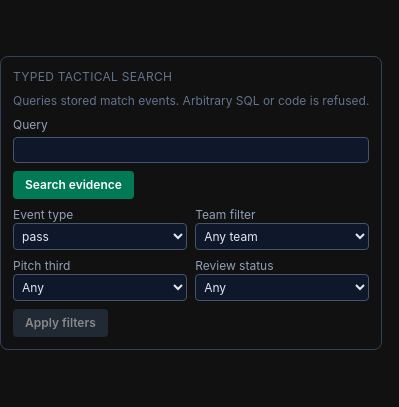
Test: shows the interpreted filter and explains unsupported search terms
In the field labelled "Query": (191,150) [13,137,369,163], type "our accepted recoveries by player 7 between 10 and 20 seconds"
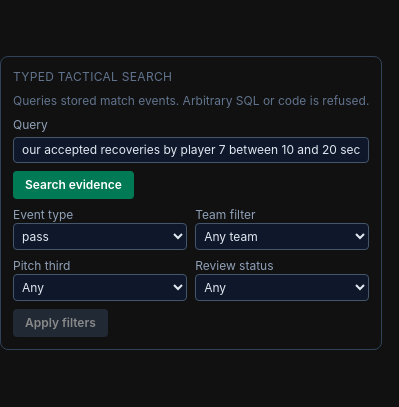
Click the button "Search evidence": (73,185) [13,171,134,199]
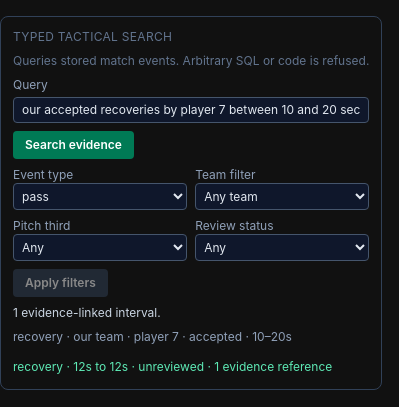
Result: the text named "Interpreted filter" reads "recovery · our team · player 7 · accepted · 10–20s" at [13,329,292,344]
Replace the text in the field labelled "Query" with "recoveries left flank": (191,110) [13,97,369,123]
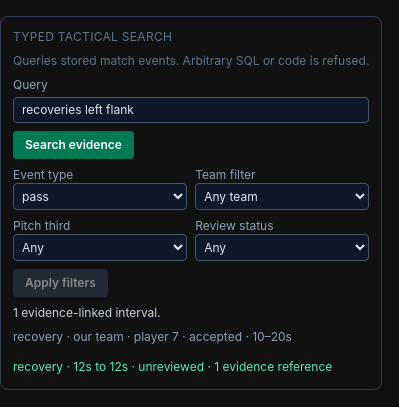
Click the button "Search evidence": (73,145) [13,131,134,159]
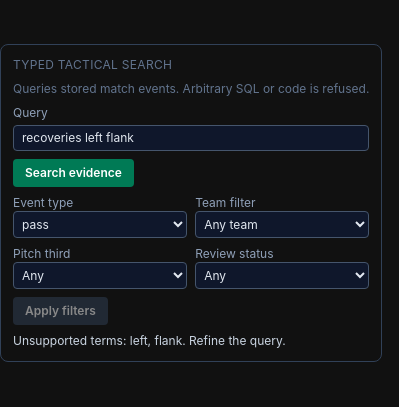
Result: the text "Unsupported terms: left, flank. Refine the query." is shown at [13,333,286,348]
Replace the text in the field labelled "Query" with "recoveries": (191,138) [13,125,369,151]
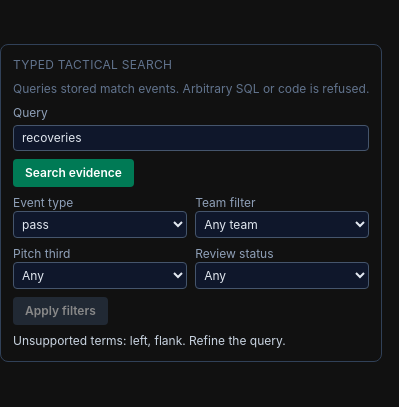
Click the button "Search evidence": (73,173) [13,159,134,187]
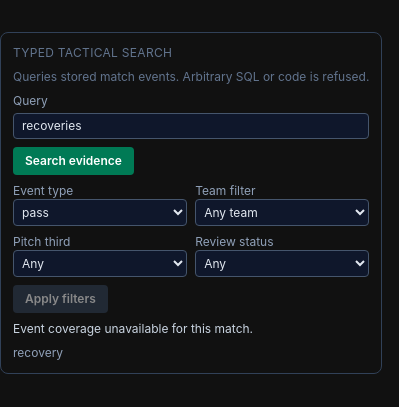
Result: the text "Event coverage unavailable for this match." is shown at [13,321,253,336]
